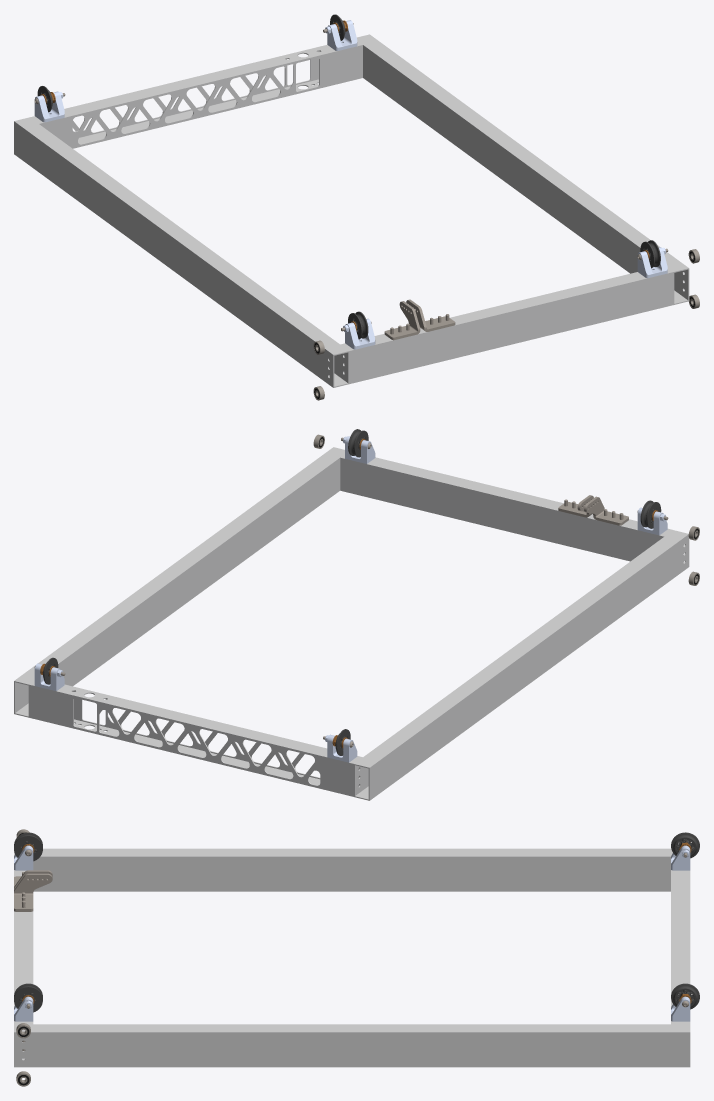
3 renders of one model, top to bottom at view 1: azimuth 30°, elevation 25°; view 2: azimuth 150°, elevation 25°; view 3: azimuth 270°, elevation 25°, orthographic. The views are drawn at different scales.
Parts seen in each view (by area): view 1: Side Rails v10:2, Side Rails v10:1, Middle Stage Lower Bar v5:1, Middle Stage Top Bar v18:1, WCP-0583-001 Rev1:1 (×2), Chain Clamp Left v1:1; view 2: Side Rails v10:2, Side Rails v10:1, Middle Stage Lower Bar v5:1, Middle Stage Top Bar v18:1; view 3: Side Rails v10:1, Side Rails v10:2, Middle Stage Top Bar v18:1, Middle Stage Lower Bar v5:1, WCP-0096 Rev6 (2):1 (×2), Chain Clamp Right v1:1, WCP-0096-001 Rev6:2 (×2).
Part boxes in pixels (x1,y1,x2,y2): Side Rails v10:2: (14, 117, 349, 387); Side Rails v10:1: (357, 34, 689, 304); Middle Stage Lower Bar v5:1: (340, 268, 673, 383); Middle Stage Top Bar v18:1: (30, 41, 362, 148); WCP-0583-001 Rev1:1 (×2): (34, 20, 357, 122); Chain Clamp Left v1:1: (384, 301, 420, 340); Side Rails v10:2: (354, 530, 689, 800); Side Rails v10:1: (14, 447, 344, 717); Middle Stage Lower Bar v5:1: (340, 454, 672, 561); Middle Stage Top Bar v18:1: (29, 681, 362, 796); Side Rails v10:1: (14, 1024, 690, 1067); Side Rails v10:2: (14, 848, 672, 891); Middle Stage Top Bar v18:1: (671, 870, 690, 1024); Middle Stage Lower Bar v5:1: (14, 870, 33, 1024); WCP-0096 Rev6 (2):1 (×2): (671, 832, 699, 1009); Chain Clamp Right v1:1: (14, 873, 52, 911); WCP-0096-001 Rev6:2 (×2): (14, 835, 42, 1012).
Size of the model in its own units: 0.6097 by 0.1143 by 0.9017.
